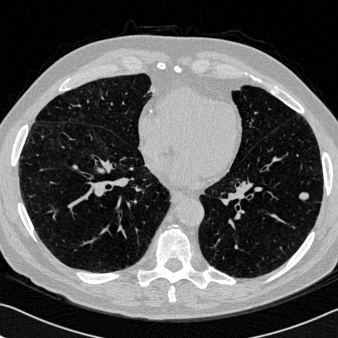PN: (300, 192, 308, 200)
